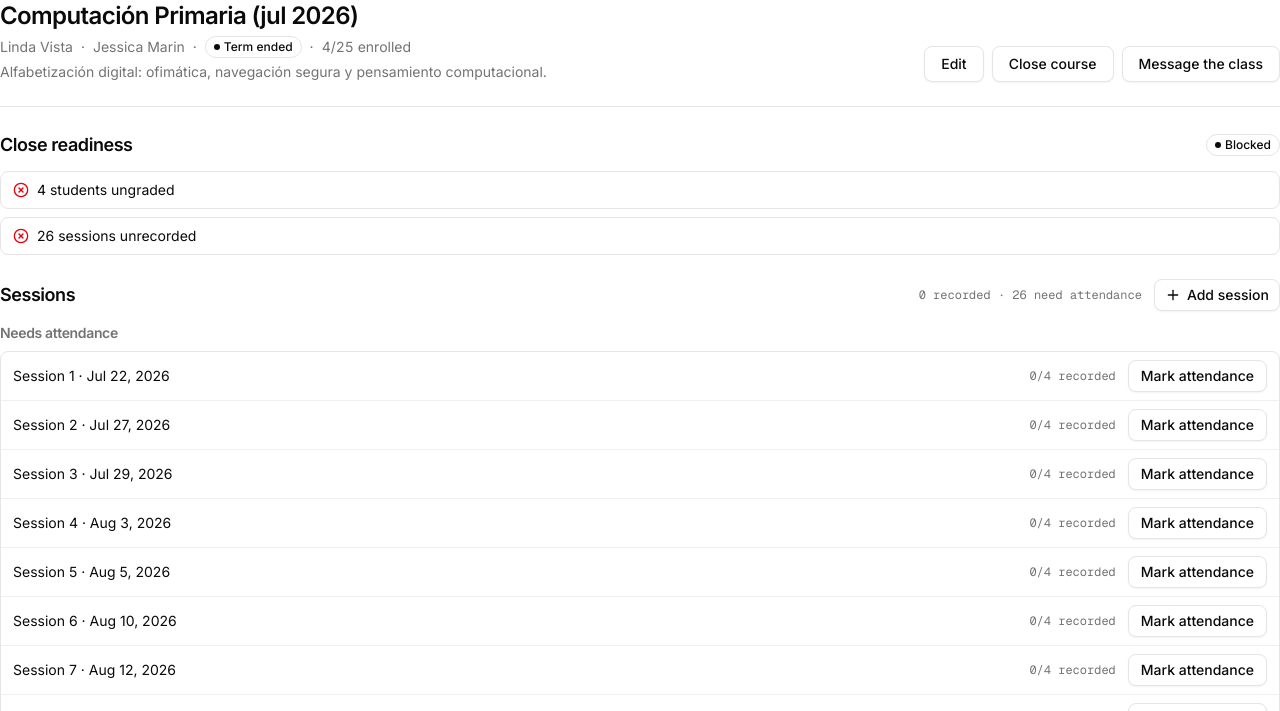
<CoursesDetailPage /> — close-readiness checklist (issue #204) › keeps the close button enabled and opening the confirm dialog on a blocked course
Expected: the element with test id "close-readiness-verdict" reads "Blocked", [1225,137,1271,152]
Click the button "Close course": (1053, 64) [992,46,1114,82]
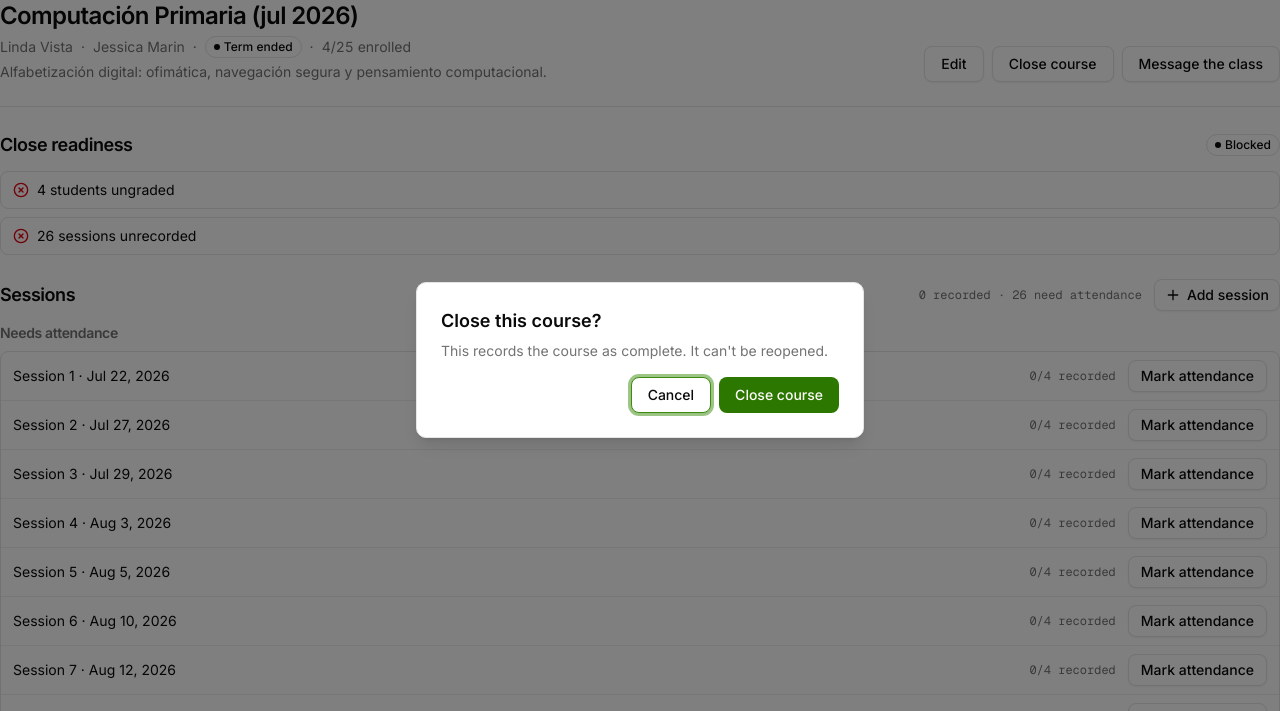
Expected: the dialog is shown, [416,282,864,438]
